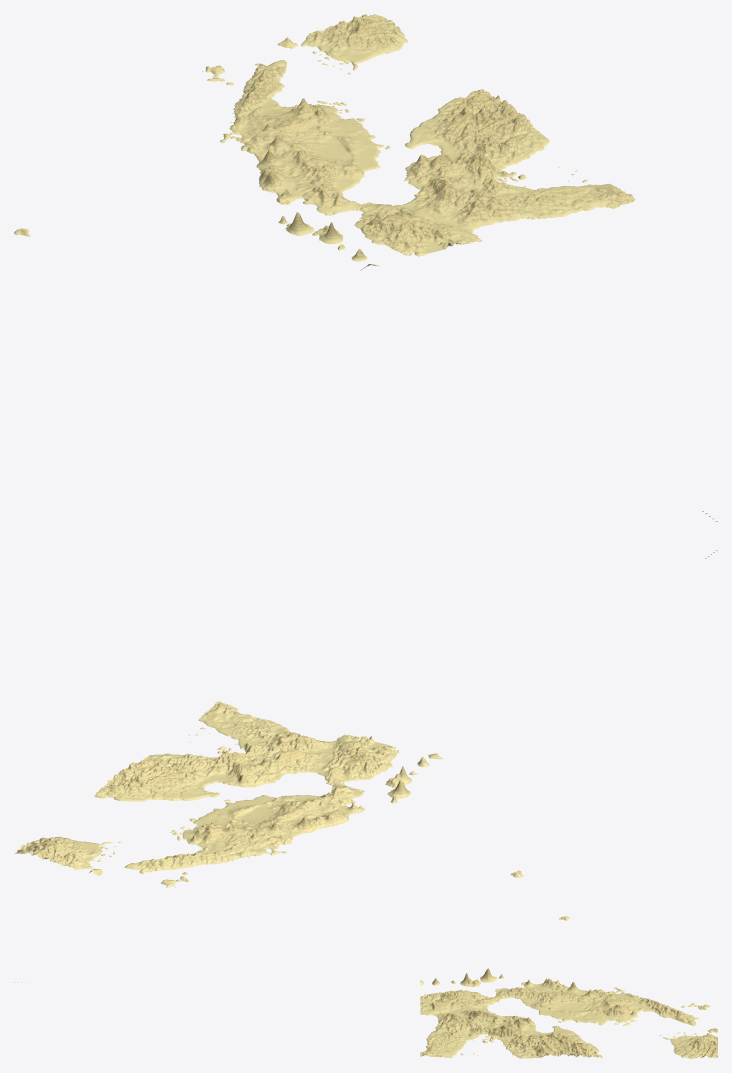
The model's file is twin.v2.glb.
3 views of the same model, one above another, from view 1: azimuth 30°, elevation 25°; view 2: azimuth 150°, elevation 25°; view 3: azimuth 270°, elevation 25° (orthographic). The views are drawn at different scales.
Parts seen in each view (by area): view 1: terrain; view 2: terrain; view 3: terrain.
Part boxes in pixels (x1,y1,x2,y2): terrain: (14, 14, 635, 270); terrain: (14, 701, 523, 887); terrain: (420, 916, 717, 1058).
Size of the model in its own units: 250 by 8.72 by 523.
Materials: 6 (1 with a texture image).
